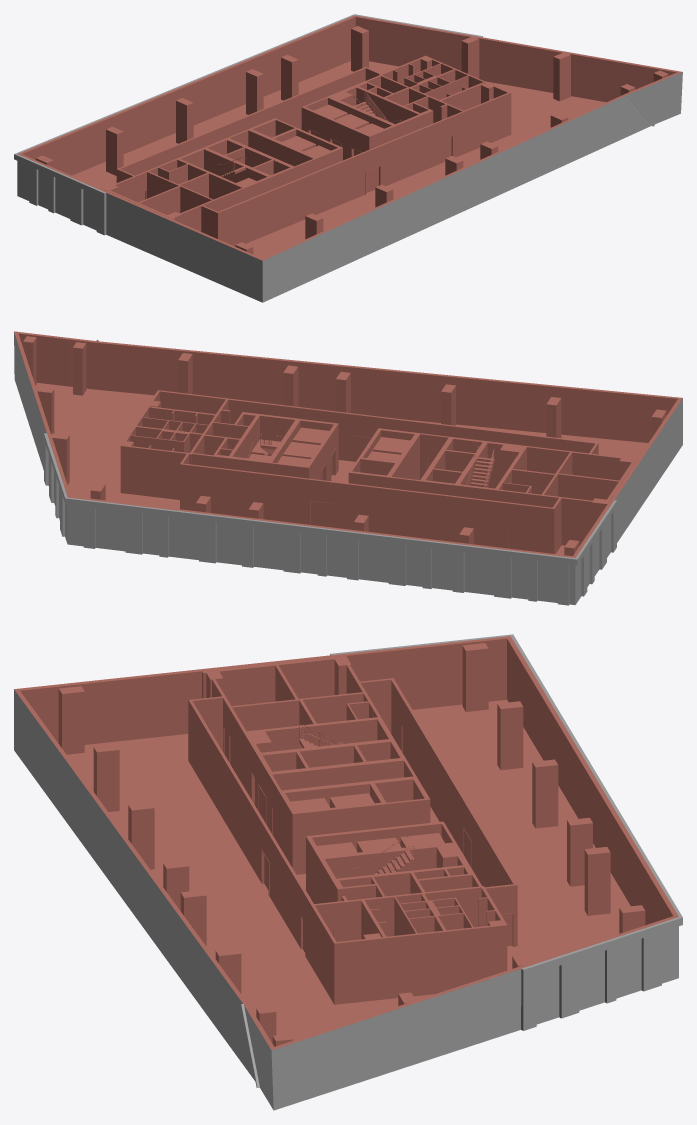
The model's file is JLL_Ruya_Region3DModels_Riyadh_Derived_HeroBuildings_Building 305_Floors_KSA_04_04105_B29_Floor_T1_3.fbx.
The picture shows the model from 3 angles, top to bottom: view 1: azimuth 30°, elevation 25°; view 2: azimuth 150°, elevation 25°; view 3: azimuth 270°, elevation 25°; orthographic projection. The views are drawn at different scales.
Parts seen in each view (by area): view 1: KSA_04_04105_B29_Floor_T1_3; view 2: KSA_04_04105_B29_Floor_T1_3; view 3: KSA_04_04105_B29_Floor_T1_3.
Boxes of the visible parts, x1,y1,x2,y2 form: KSA_04_04105_B29_Floor_T1_3: (14,14,682,302); KSA_04_04105_B29_Floor_T1_3: (14,331,682,605); KSA_04_04105_B29_Floor_T1_3: (14,634,682,1110).
Size of what is drawn, in the model's own units: 5958 by 510 by 4048.
